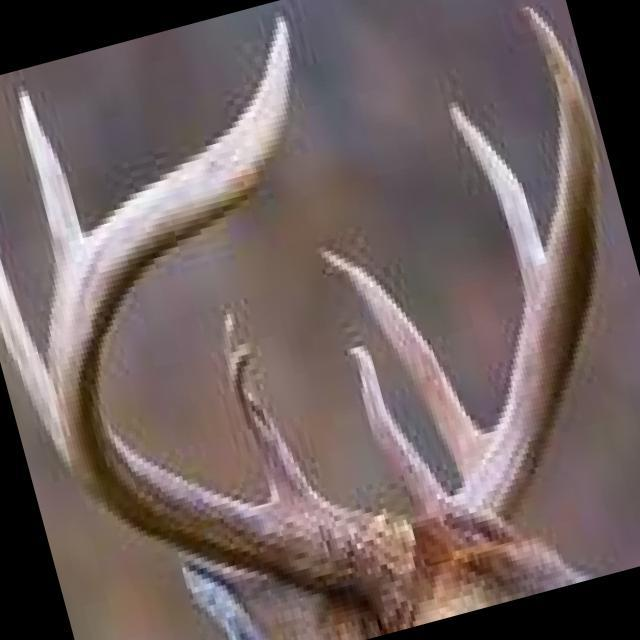L-F: (410, 0, 601, 544)
L-G1: (340, 343, 451, 518)
L-G2: (309, 237, 489, 489)
L-G3: (443, 96, 545, 298)
R-F: (43, 5, 417, 633)
R-G1: (223, 338, 334, 504)
R-G2: (0, 255, 69, 478)
R-G3: (11, 79, 85, 270)
